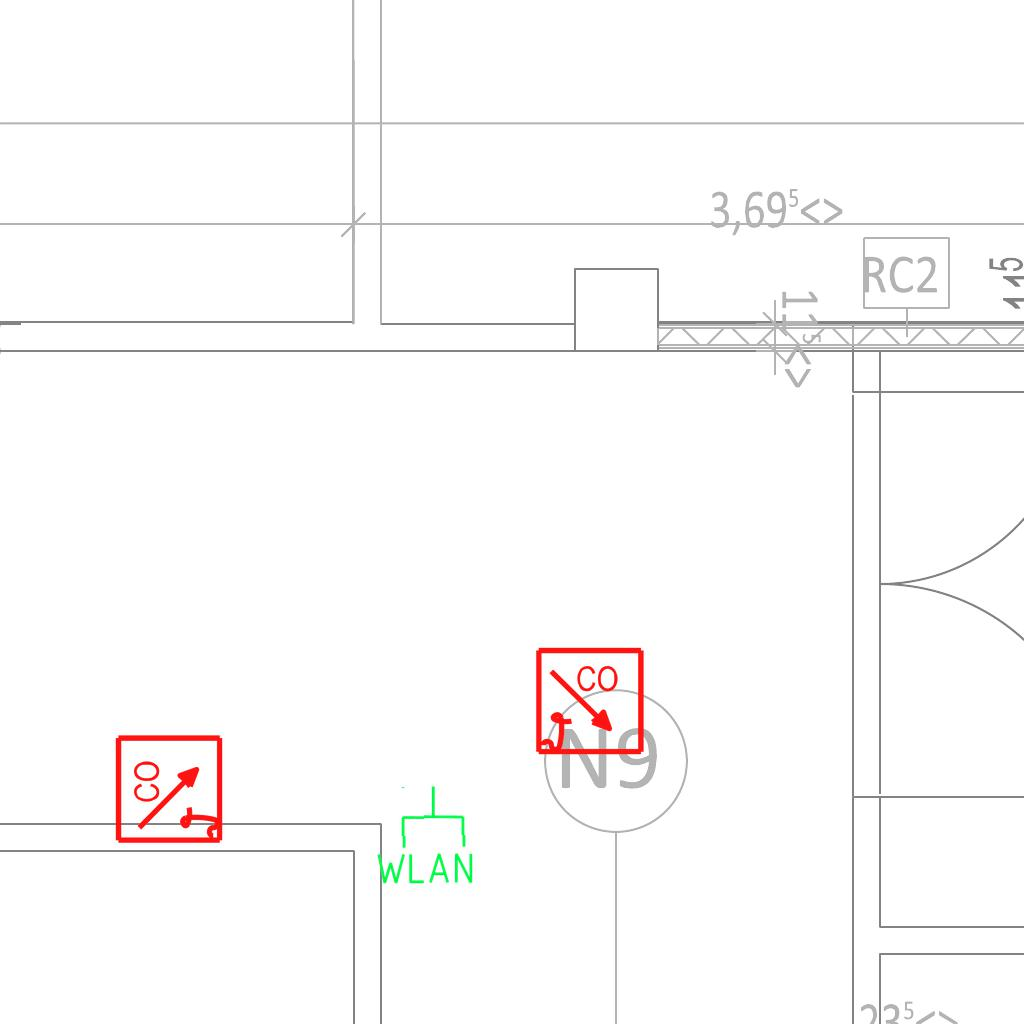ROA_Rauchmelder_optisch_mit_Signalgeber_(Sockelsirene): (534, 646, 647, 759), (114, 732, 227, 845)
WLAN: (370, 782, 478, 889)
